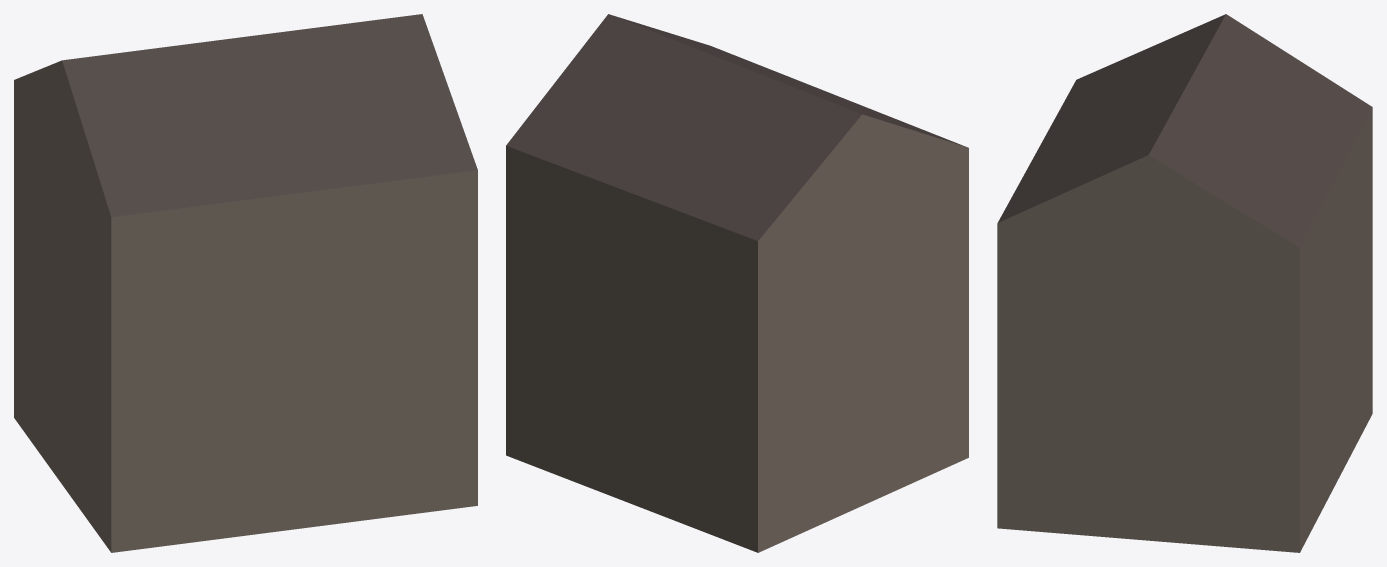
3 views of the same model, side by side, from view 1: azimuth 30°, elevation 25°; view 2: azimuth 150°, elevation 25°; view 3: azimuth 270°, elevation 25° (orthographic). The views are drawn at different scales.
Parts seen in each view (by area): view 1: HP-w505643551; view 2: HP-w505643551; view 3: HP-w505643551.
Boxes of the visible parts, bbox=[...] form: HP-w505643551: bbox=[14, 14, 477, 552]; HP-w505643551: bbox=[506, 14, 968, 552]; HP-w505643551: bbox=[997, 14, 1372, 552].
Bounding box in the file's own units: 10.62 × 11.37 × 10.02.
